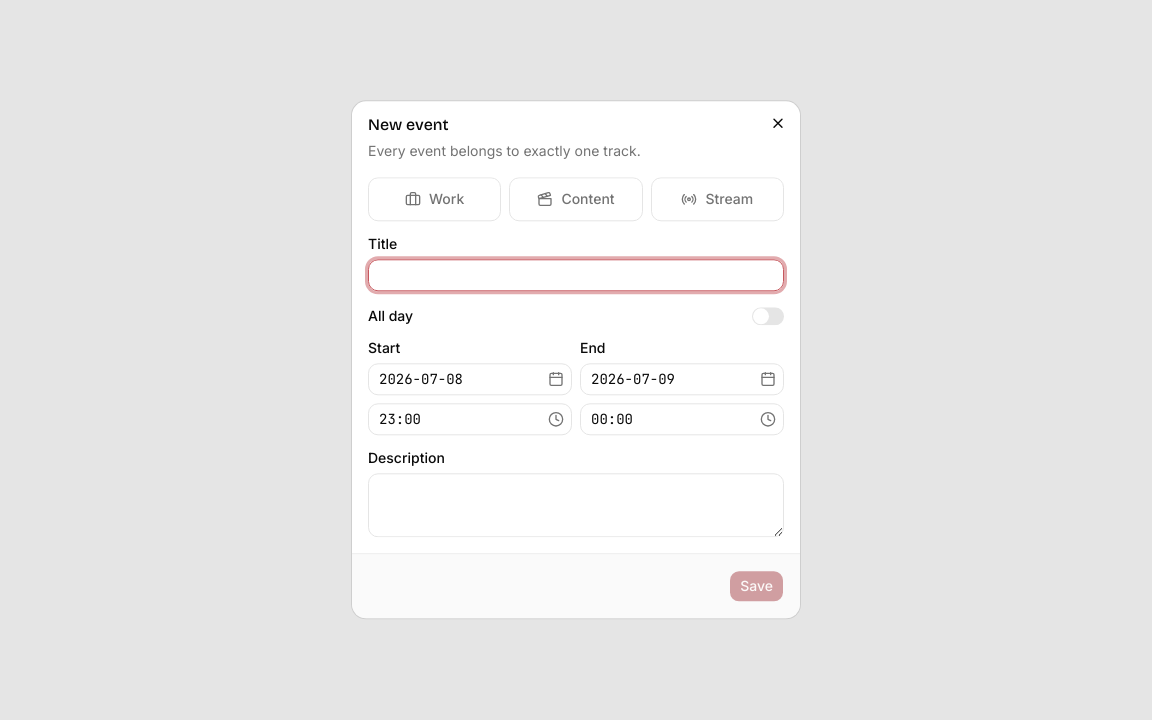
EventEditor — single-day content kinds › renders one Date field and no end-date input for content
Click the radio button labelled "Content" at [576, 199], box [509,177,643,221]
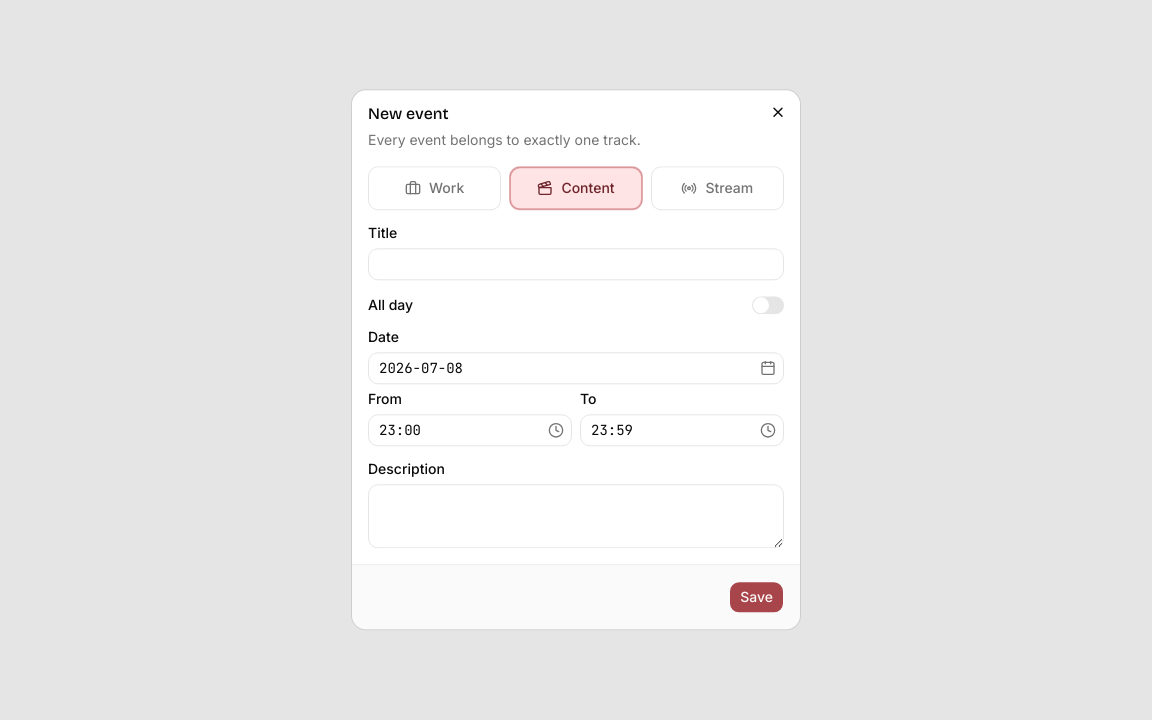
Expected: the field labelled "Date" holds "2026-07-08", [369,353,756,385]
Expected: the label labelled "Start" is gone
Expected: the label labelled "End" is gone
